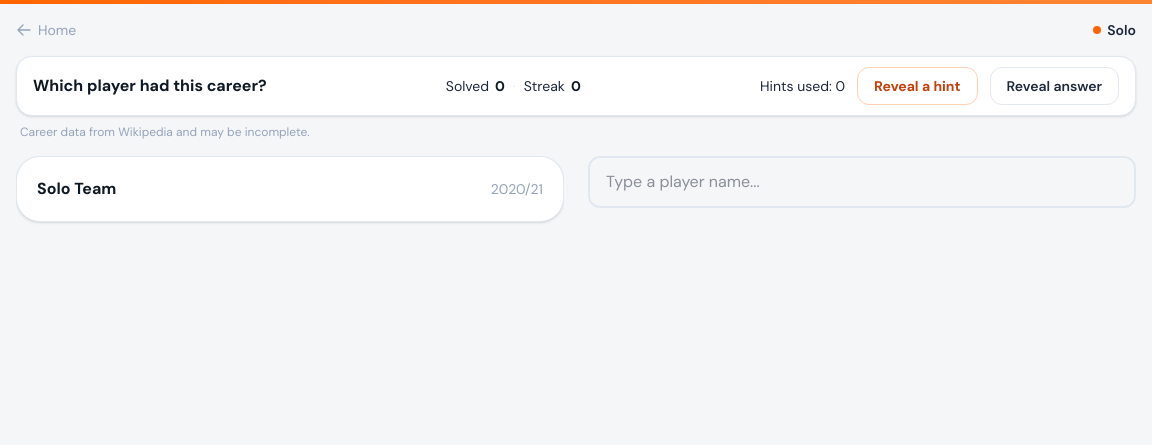
Test: CareerQuizBoard multiplayer reveals › ignores stale hint responses after advancing to a new solo round
Click the button "Reveal a hint". click: [917, 86]
box: [857, 67, 978, 105]
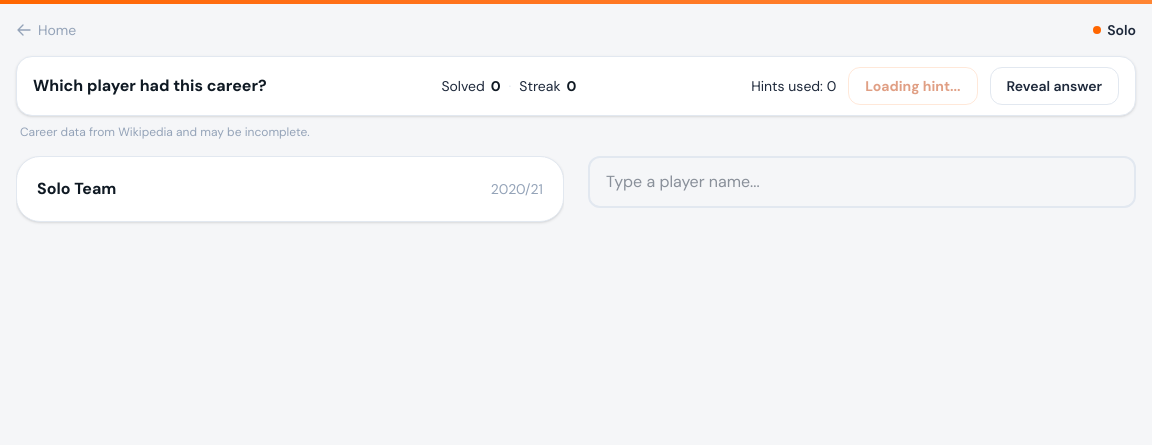
Expected: the button "Loading hint..." is disabled, [848, 67, 978, 105]
Type "Solo Hit" into the field with placeholder "Type a player name...". click: [862, 182]
box: [588, 156, 1136, 208]
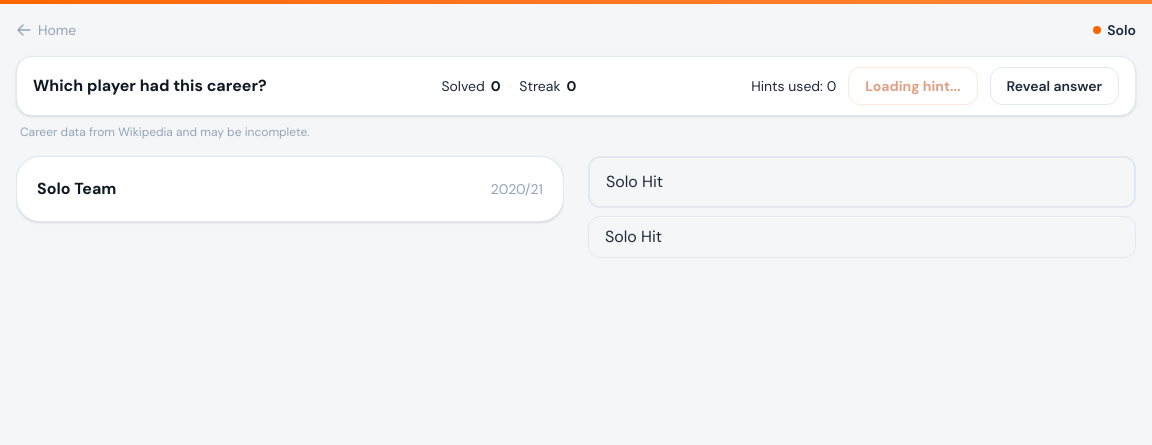
Click the button "Solo Hit". click: [634, 236]
box: [589, 217, 1135, 257]
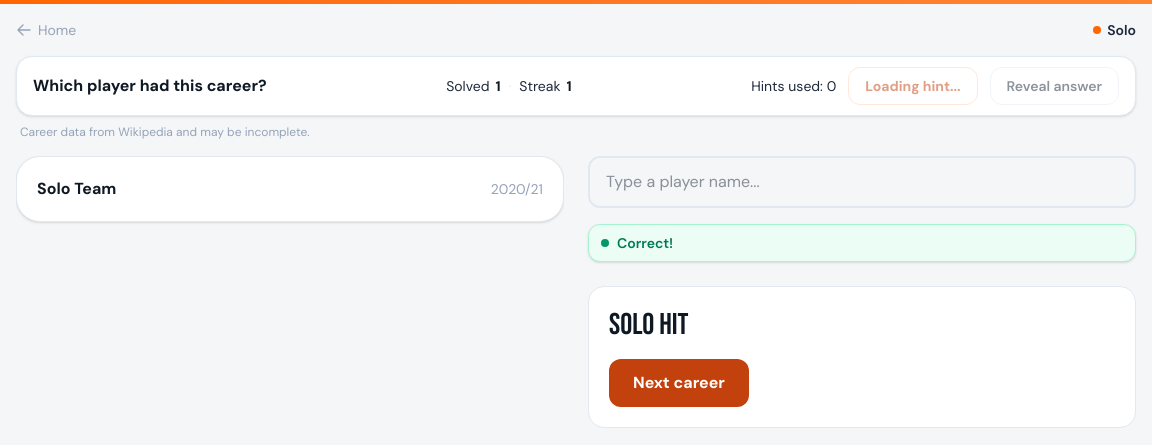
Click the button "Next career". click: [679, 383]
box: [609, 359, 749, 407]
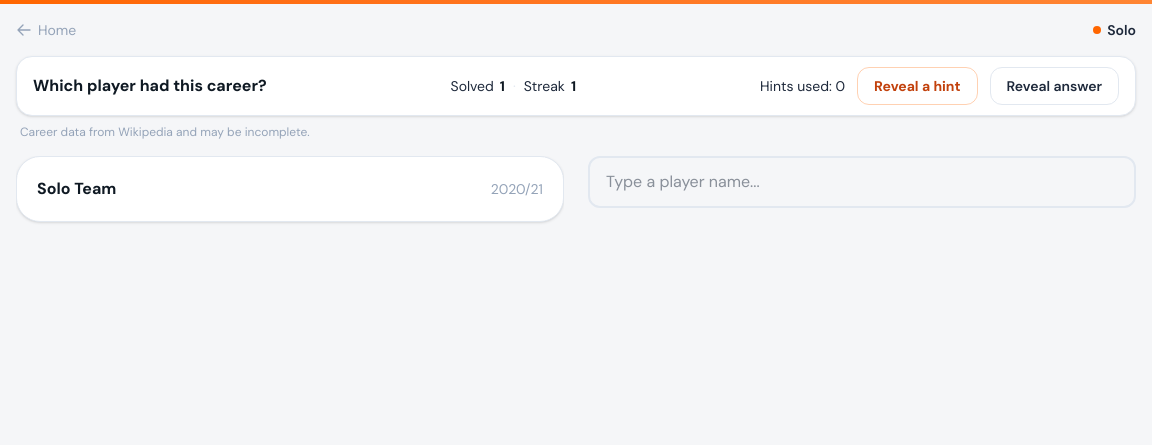
Expected: the text "Hints used: 0" is shown, [760, 76, 845, 96]
Expected: the button "Reveal a hint" is enabled, [857, 67, 978, 105]
